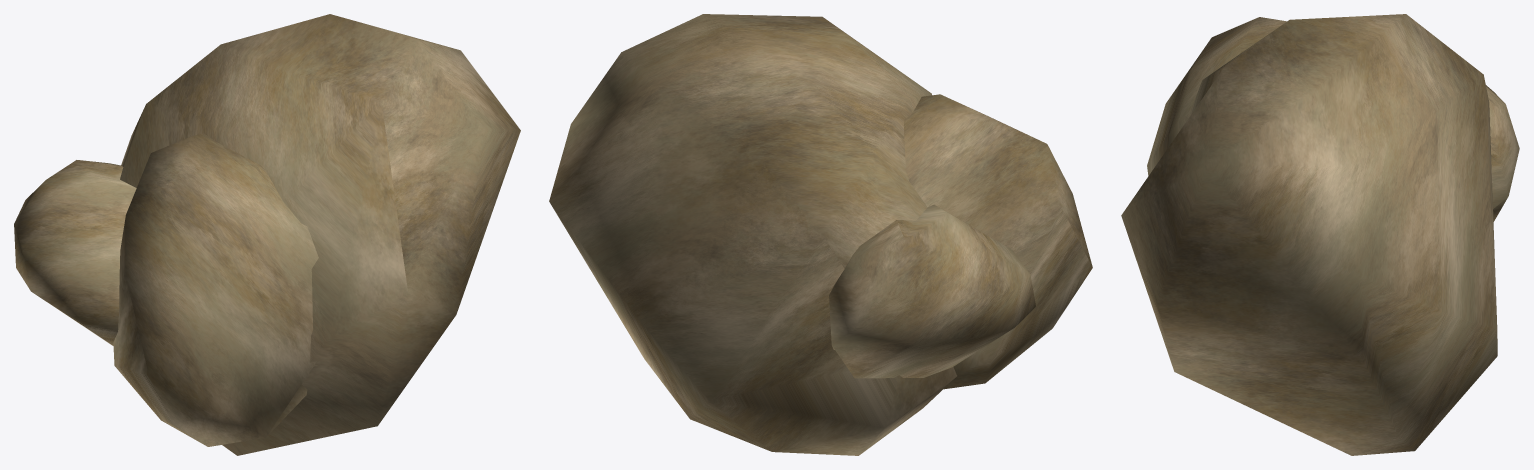
File: rock cluster 2.fbx
3 views of the same model, side by side, from view 1: azimuth 30°, elevation 25°; view 2: azimuth 150°, elevation 25°; view 3: azimuth 270°, elevation 25° (orthographic). The views are drawn at different scales.
Parts seen in each view (by area): view 1: pPlatonic13; view 2: pPlatonic13; view 3: pPlatonic13.
Boxes of the visible parts, x1,y1,x2,y2 form: pPlatonic13: [14, 14, 520, 455]; pPlatonic13: [549, 14, 1092, 455]; pPlatonic13: [1121, 14, 1519, 455].
Bounding box in the file's own units: 2.46 × 2.02 × 1.74.
Materials: 1 (1 with a texture image).
